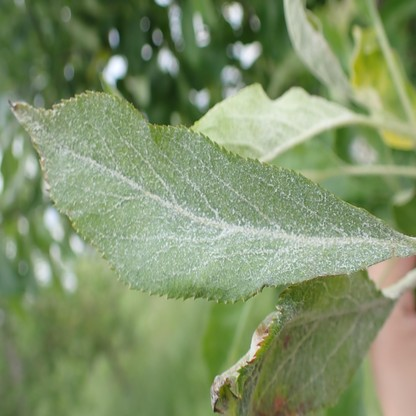powder: (10, 89, 414, 300), (272, 279, 318, 338)
rust: (271, 394, 286, 412)
